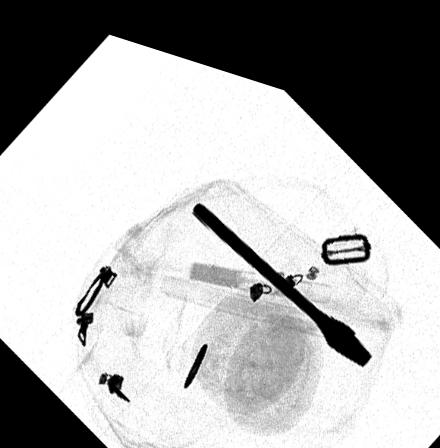Wrench: (186, 186, 374, 344)
